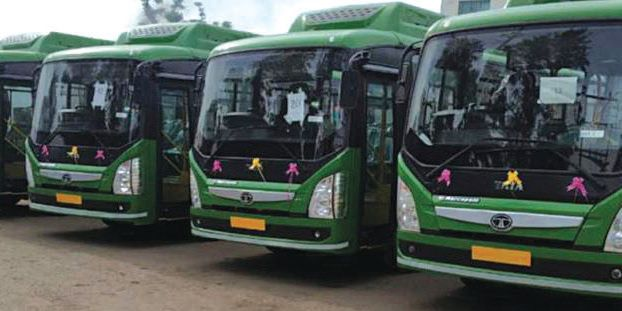bus: (400, 28, 622, 300), (182, 52, 397, 261), (28, 52, 184, 230)
